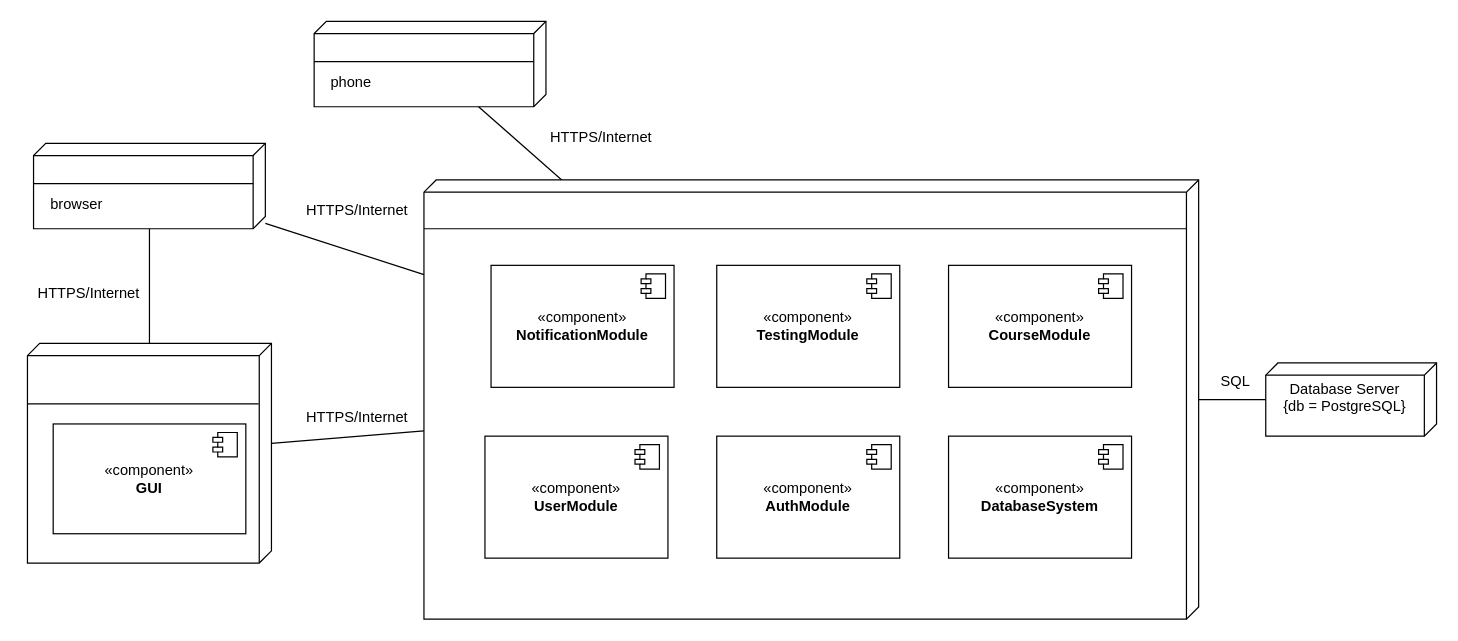
Some shapes in this 1458 by 641 pixel diagram are drawn without their labels. Each missing label, with the box of its shape:
Application Server: (423, 179, 1199, 619)
BrowserClient: (32, 142, 265, 229)
MobileClient: (313, 20, 546, 107)
Webserver {webserver = nginx}: (26, 342, 271, 563)
